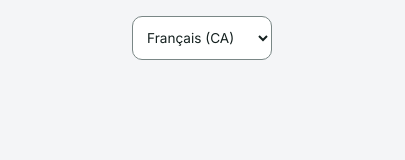
signed-in switcher › keeps the previous language and says so after a server error
Select "English" in the dropdown named "Langue" at (202, 38), box [132,16,272,60]
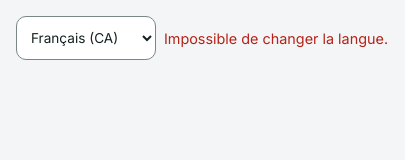
Now the text "Impossible de changer la langue." is shown, box [164,30,388,46]
